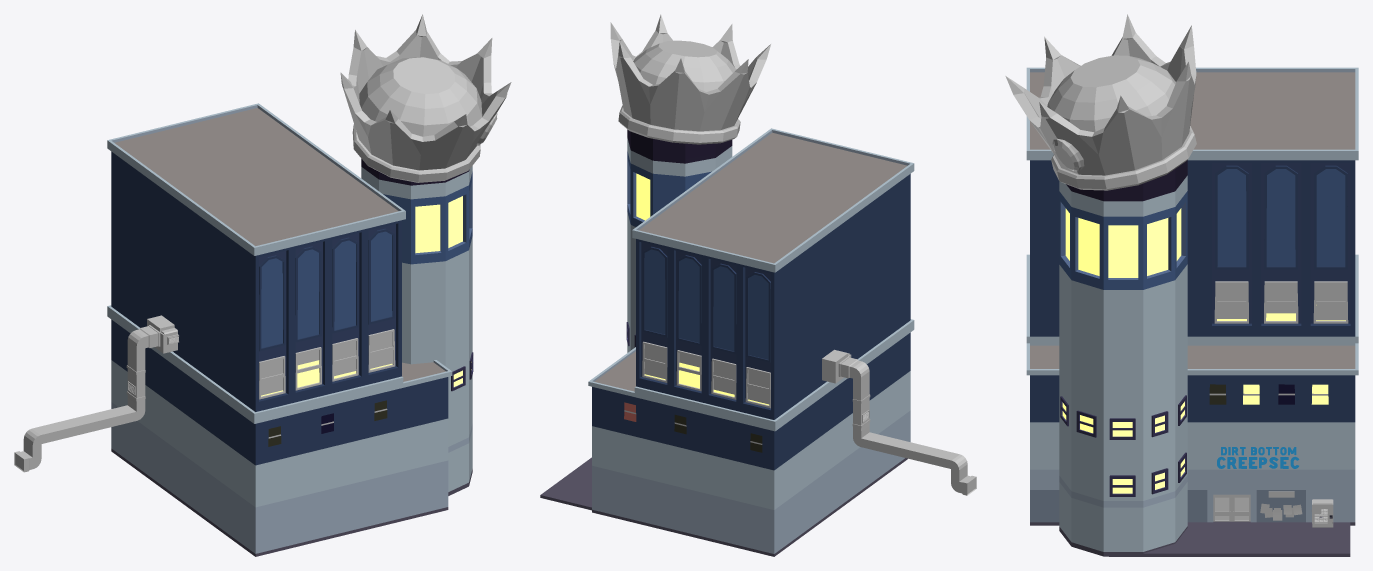
File: DBCreepsec.fbx
3 views of the same model, side by side, from view 1: azimuth 30°, elevation 25°; view 2: azimuth 150°, elevation 25°; view 3: azimuth 270°, elevation 25° (orthographic). The views are drawn at different scales.
Parts seen in each view (by area): view 1: CreepSecBuilding, Crown, CreepSecTower, Windows.043, Vents.004, Windows.039; view 2: CreepSecBuilding, Crown, Windows.048, CreepSecTower, Vents.004, Platform.018, Windows.039; view 3: CreepSecBuilding, CreepSecTower, Crown, Windows.040, Platform.018, Windows.049, Windows.039, Windows.050, Text.439, VendingMachine.017, SlidingDoors.004, SlidingDoors.001.
Boxes of the visible parts, x1,y1,x2,y2 form: CreepSecBuilding: (107, 103, 452, 556); Crown: (340, 14, 511, 182); CreepSecTower: (361, 159, 472, 495); Windows.043: (259, 228, 395, 399); Vents.004: (14, 315, 178, 472); Windows.039: (268, 400, 387, 446); CreepSecBuilding: (588, 128, 914, 556); Crown: (610, 14, 770, 144); Windows.048: (642, 246, 770, 408); CreepSecTower: (627, 129, 732, 352); Vents.004: (822, 349, 976, 495); Platform.018: (540, 457, 591, 510); Windows.039: (624, 402, 762, 452); CreepSecBuilding: (1026, 67, 1358, 525); CreepSecTower: (1059, 160, 1187, 556); Crown: (1005, 14, 1196, 190); Windows.040: (1214, 165, 1348, 323); Platform.018: (1109, 522, 1350, 556); Windows.049: (1060, 395, 1186, 439); Windows.039: (1209, 384, 1328, 404); Windows.050: (1109, 452, 1186, 496); Text.439: (1217, 456, 1299, 468); VendingMachine.017: (1312, 499, 1333, 527); SlidingDoors.004: (1232, 494, 1250, 521); SlidingDoors.001: (1213, 494, 1231, 521).
Size of the model in its own units: 6244 by 6049 by 3962.
